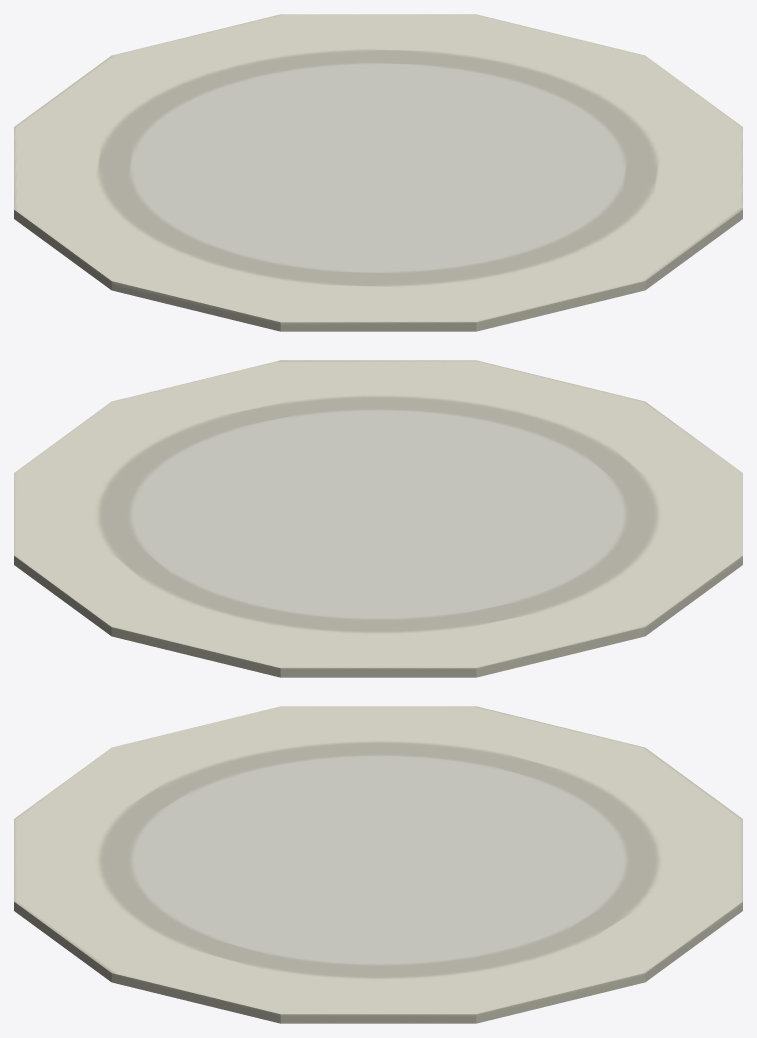
File: Plate.fbx
3 views of the same model, one above another, from view 1: azimuth 30°, elevation 25°; view 2: azimuth 150°, elevation 25°; view 3: azimuth 270°, elevation 25° (orthographic).
Visible parts, largest first — view 1: GEOPlate; view 2: GEOPlate; view 3: GEOPlate.
Boxes of the visible parts, x1=… form: GEOPlate: x1=14, y1=14, x2=742, y2=331; GEOPlate: x1=14, y1=360, x2=742, y2=677; GEOPlate: x1=14, y1=706, x2=742, y2=1023.
Bounding box in the file's own units: 295 × 4.2 × 295.
